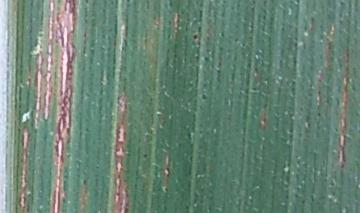tarspot: (191, 29, 203, 45), (200, 89, 210, 103), (80, 175, 90, 189), (60, 192, 69, 207), (141, 150, 150, 163)
